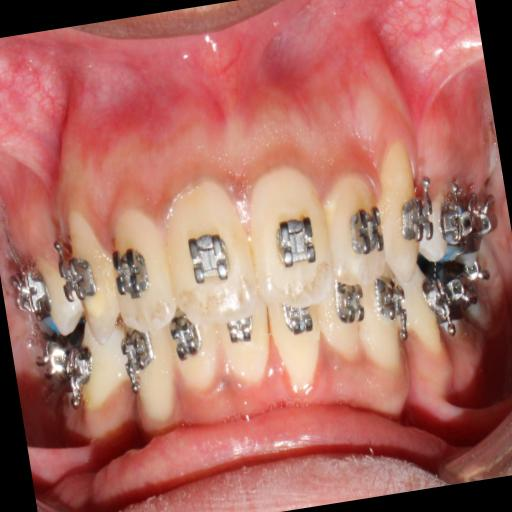correct_brace: (270, 206, 320, 274), (183, 228, 236, 287), (342, 198, 387, 264), (53, 250, 100, 304), (110, 244, 152, 302), (395, 188, 436, 246)
incorrect_brace: (102, 202, 176, 334), (318, 164, 392, 290)
